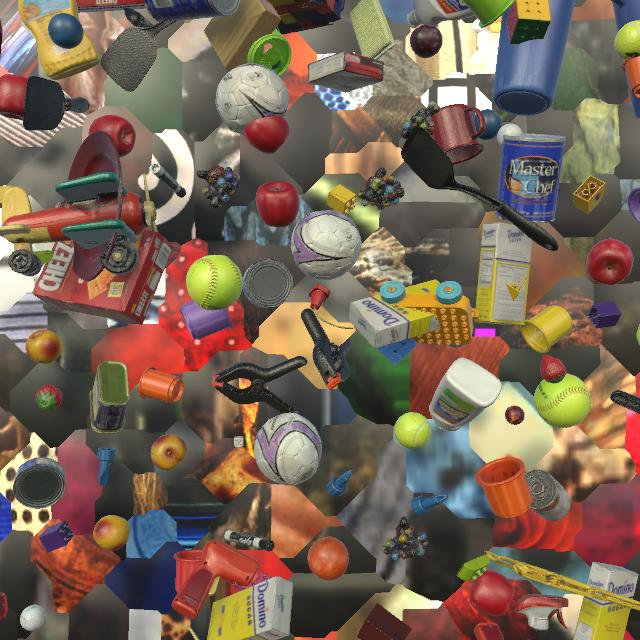ycb_002_master_chef_can: (495, 133, 566, 223), (143, 0, 241, 22)
ycb_003_cracker_box: (32, 230, 173, 325), (76, 0, 146, 13)
ycb_004_sugar_box: (349, 279, 441, 349), (474, 222, 532, 326), (207, 576, 293, 640), (573, 562, 639, 640)
ycb_005_tomato_soup_can: (525, 470, 571, 521)
ycb_006_mustard_bottle: (18, 0, 100, 80)
ycb_007_tuna_fish_can: (13, 457, 66, 509), (243, 258, 293, 308)
ycb_008_pudding_box: (307, 50, 385, 93)
ycb_010_potted_meat_can: (89, 361, 130, 434)
ycb_012_strawberry: (540, 355, 567, 384), (35, 384, 63, 411)
ycb_013_apple: (586, 239, 633, 285), (469, 569, 515, 616), (88, 115, 136, 158), (256, 181, 300, 227), (243, 116, 290, 154), (0, 74, 28, 120)
ycb_015_peach: (151, 434, 187, 471), (93, 515, 130, 551), (26, 329, 63, 364)
ycb_017_orange: (308, 537, 349, 580)
ycb_018_plum: (410, 24, 443, 58)
